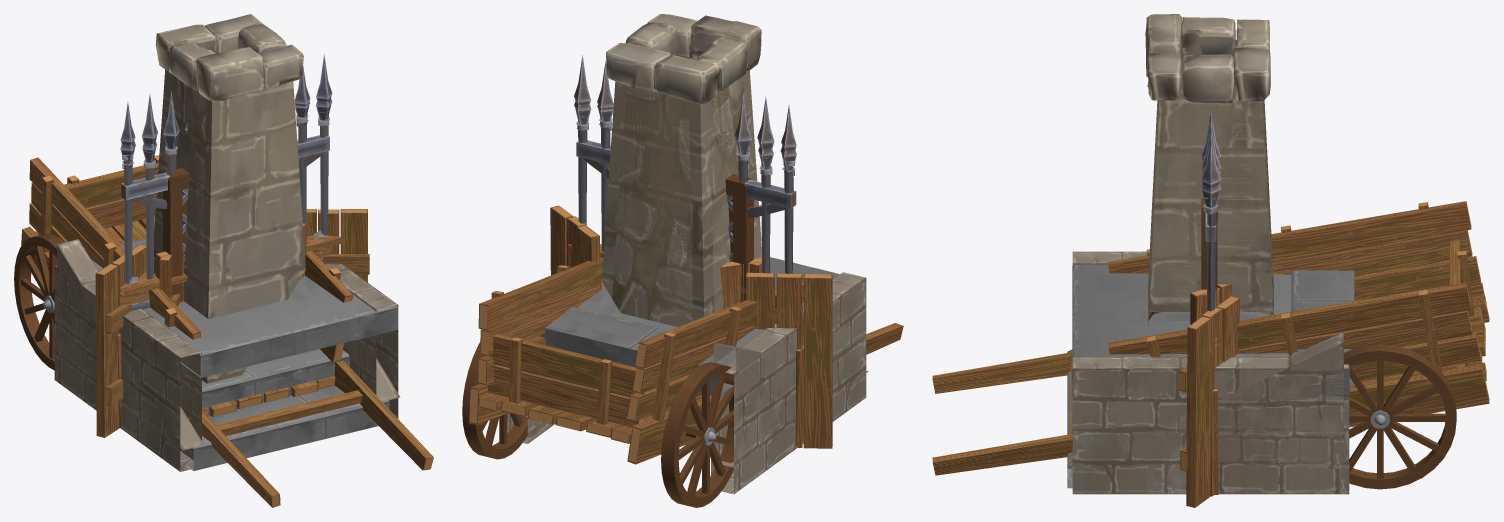
File: props_dorf.glb
The picture shows the model from 3 angles, left to right: view 1: azimuth 30°, elevation 25°; view 2: azimuth 150°, elevation 25°; view 3: azimuth 270°, elevation 25°; orthographic projection. The views are drawn at different scales.
Parts seen in each view (by area): view 1: Schornstein1, Treppe2, Handwagen1, Treppe1, Fensterladen1, Eisenzaun1, Treppe3, Eisenzaun2, Tuer1, Schornstein2, Balkon1, Fensterladen2 (+1 smaller); view 2: Handwagen1, Schornstein1, Schornstein2, Treppe2, Fensterladen1, Eisenzaun1, Treppe1, Eisenzaun2, Tuer1, Fensterladen2, Treppe3, Zaun1; view 3: Handwagen1, Schornstein1, Treppe2, Treppe1, Treppe3, Fensterladen1, Schornstein2, Eisenzaun1, Eisenzaun2, Fensterladen2, Tuer1, Zaun1.
Boxes of the visible parts, left/top/right/bottom form: Schornstein1: left=153, top=14, right=305, bottom=383; Treppe2: left=54, top=264, right=398, bottom=471; Handwagen1: left=14, top=155, right=433, bottom=507; Treppe1: left=57, top=239, right=400, bottom=470; Fensterladen1: left=95, top=209, right=369, bottom=437; Eisenzaun1: left=120, top=65, right=332, bottom=284; Treppe3: left=147, top=305, right=398, bottom=377; Eisenzaun2: left=120, top=54, right=332, bottom=310; Tuer1: left=163, top=174, right=189, bottom=301; Schornstein2: left=161, top=86, right=280, bottom=312; Balkon1: left=119, top=235, right=341, bottom=305; Fensterladen2: left=159, top=223, right=306, bottom=306; Handwagen1: left=462, top=257, right=903, bottom=507; Schornstein1: left=602, top=14, right=761, bottom=326; Schornstein2: left=612, top=43, right=750, bottom=326; Treppe2: left=507, top=257, right=866, bottom=494; Fensterladen1: left=550, top=205, right=832, bottom=448; Eisenzaun1: left=574, top=61, right=796, bottom=273; Treppe1: left=526, top=307, right=868, bottom=467; Eisenzaun2: left=574, top=55, right=796, bottom=310; Tuer1: left=726, top=194, right=753, bottom=301; Fensterladen2: left=720, top=258, right=770, bottom=308; Treppe3: left=666, top=257, right=838, bottom=392; Zaun1: left=796, top=345, right=803, bottom=446; Handwagen1: left=932, top=201, right=1489, bottom=489; Schornstein1: left=1145, top=14, right=1273, bottom=325; Treppe2: left=1072, top=251, right=1349, bottom=494; Treppe1: left=1067, top=270, right=1354, bottom=488; Treppe3: left=1072, top=265, right=1349, bottom=396; Fensterladen1: left=1179, top=296, right=1239, bottom=507; Schornstein2: left=1148, top=44, right=1273, bottom=320; Eisenzaun1: left=1200, top=123, right=1221, bottom=311; Eisenzaun2: left=1200, top=112, right=1221, bottom=311; Fensterladen2: left=1190, top=284, right=1232, bottom=324; Tuer1: left=1201, top=198, right=1217, bottom=289; Zaun1: left=1212, top=389, right=1218, bottom=494.
Size of the model in its own units: 2.48 by 3.18 by 4.02.
5 materials, 5 textured.
